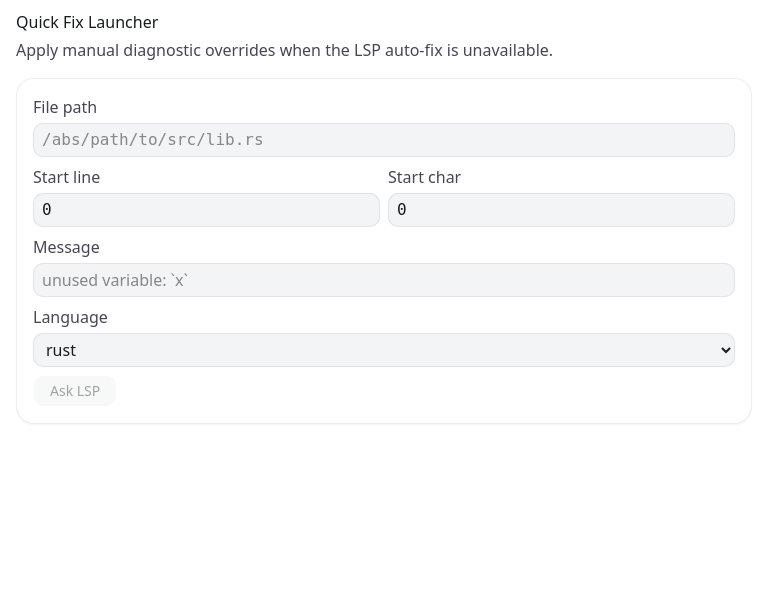
Test: QuickFix — panel error rendering is surfaced › renders the "no LSP configured" alert for a language outside the default server map
Type "/tmp/x.rs" into the field labelled "File path" at [384, 140], box [33, 123, 735, 157]
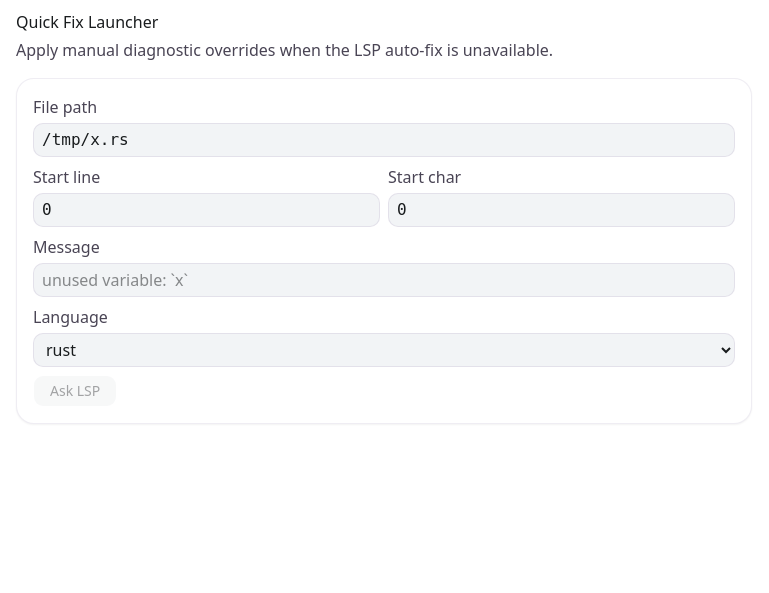
Type "unused" into the field labelled "Message" at [384, 280], box [33, 263, 735, 297]
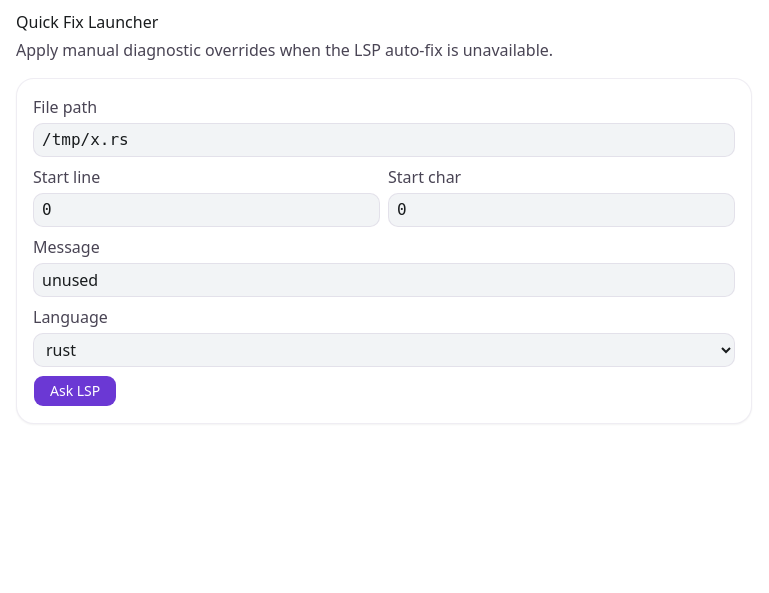
Click the button "Ask LSP" at [75, 391], box [33, 375, 117, 407]
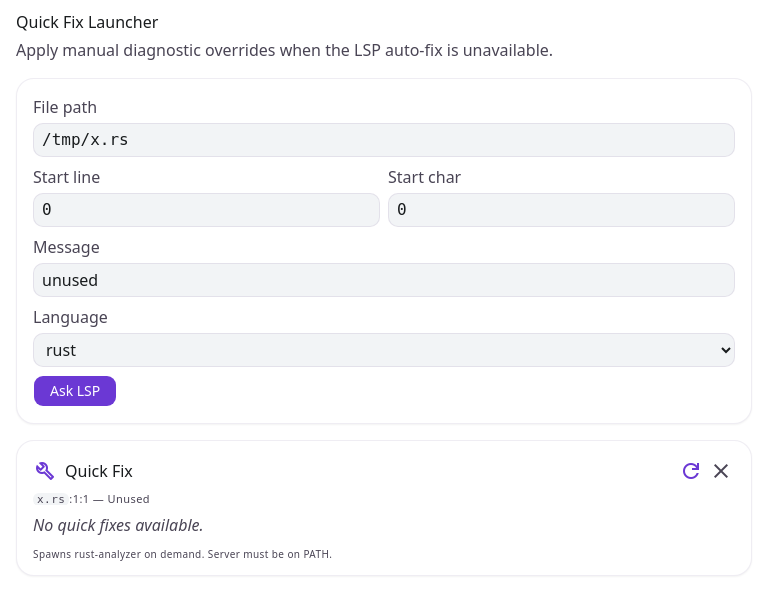
Expected: the element named "LSP quick-fix panel" is shown, [16, 440, 752, 576]
Expected: the button named "Re-fetch quick fixes" is shown, [679, 459, 703, 483]
